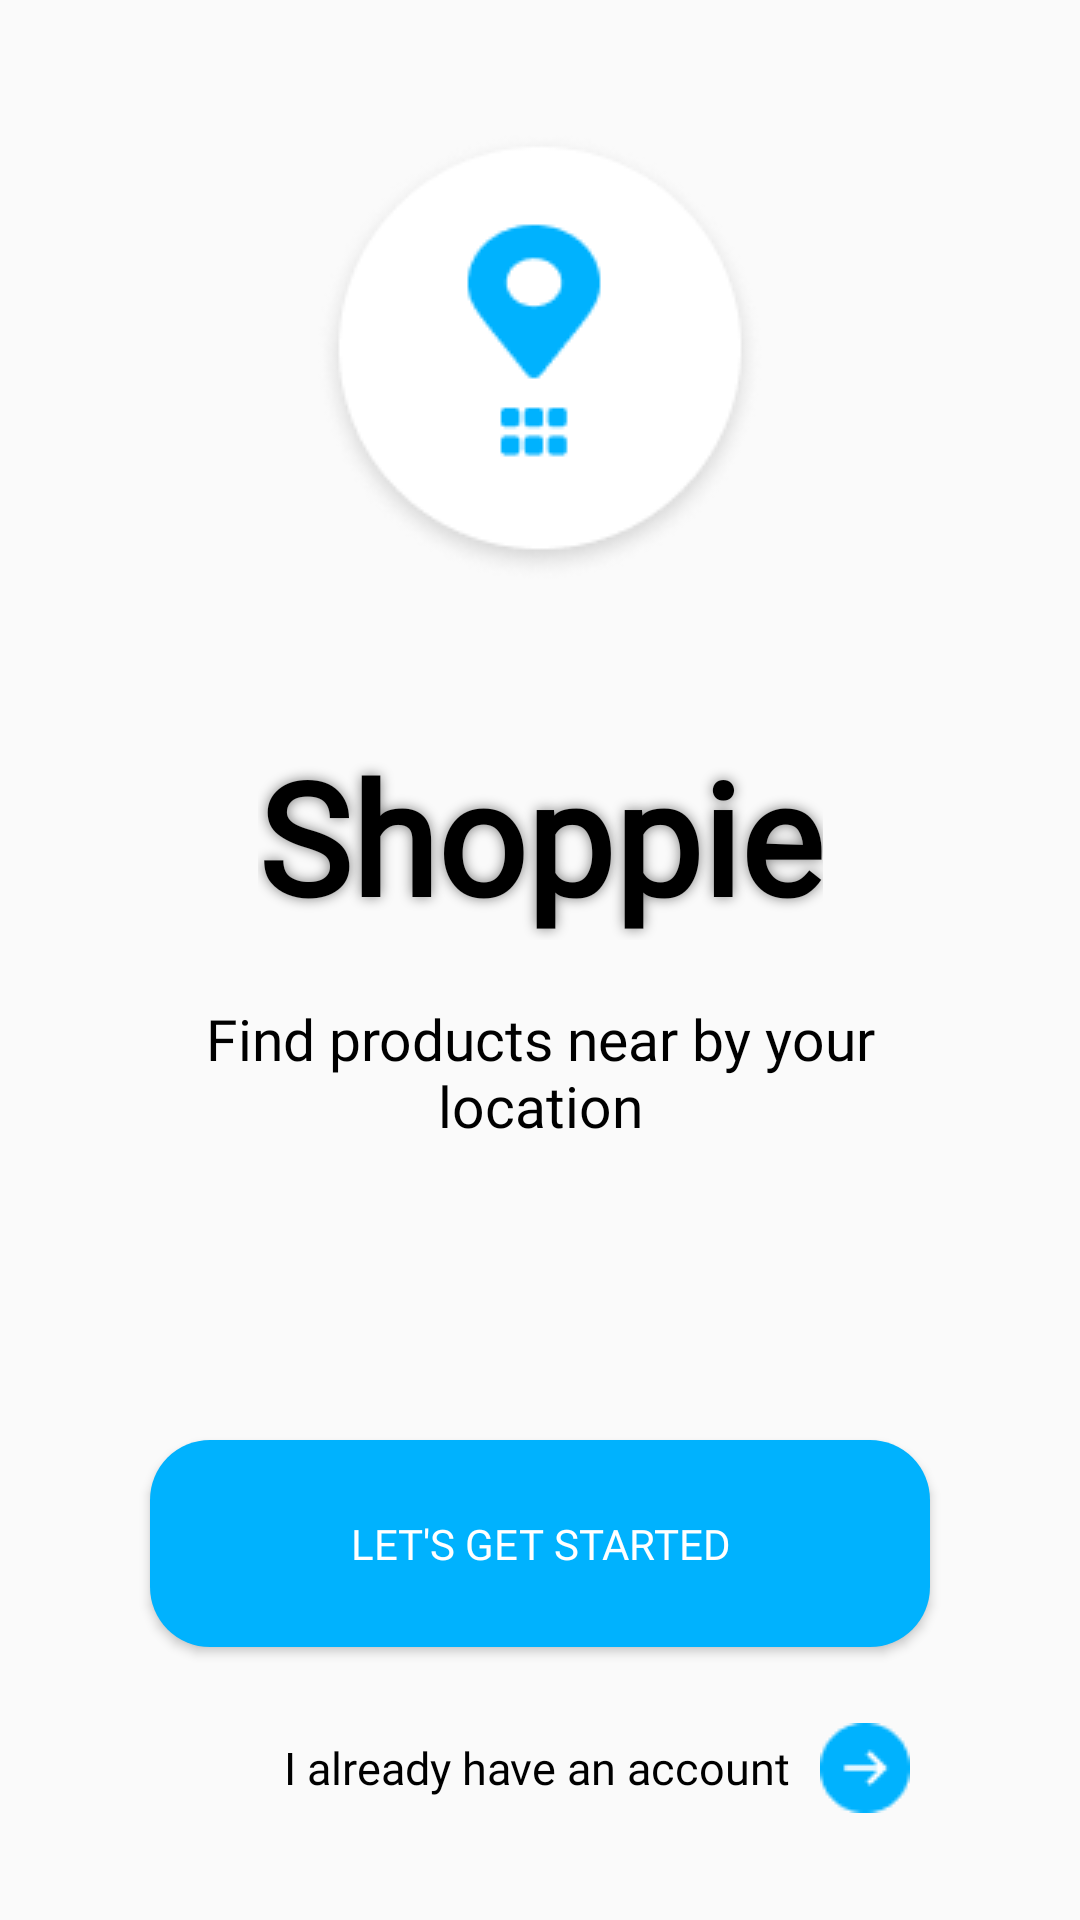

Point at icon controls on the screen. Image size 1080px×1920px, points as point (x, y).
arrow right: point (865, 1768)
